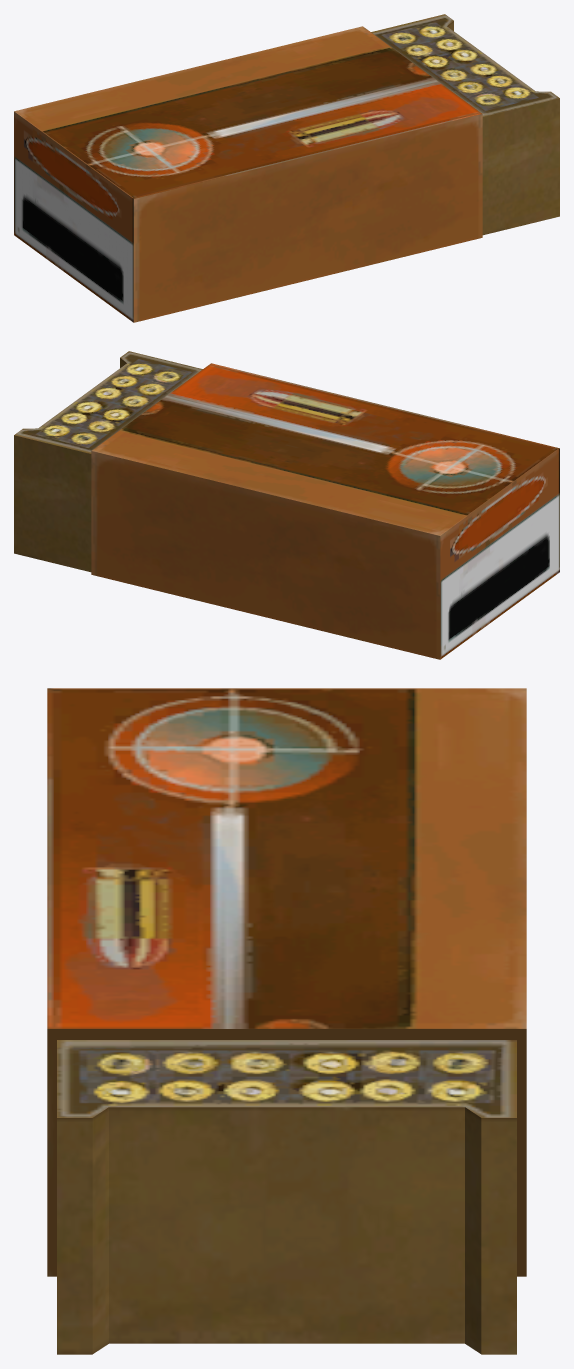
File: Pickup_Pistolbullets2.glb
The picture shows the model from 3 angles, top to bottom: view 1: azimuth 30°, elevation 25°; view 2: azimuth 150°, elevation 25°; view 3: azimuth 270°, elevation 25°; orthographic projection. The views are drawn at different scales.
Visible parts, largest first — view 1: pk_pistolbullets_2; view 2: pk_pistolbullets_2; view 3: pk_pistolbullets_2.
Boxes of the visible parts, x1,y1,x2,y2 form: pk_pistolbullets_2: (14,14,559,322); pk_pistolbullets_2: (14,351,559,659); pk_pistolbullets_2: (47,688,526,1354).
Size of the model in its own units: 0.366 by 0.1011 by 0.1771.
Materials: 1 (1 with a texture image).
